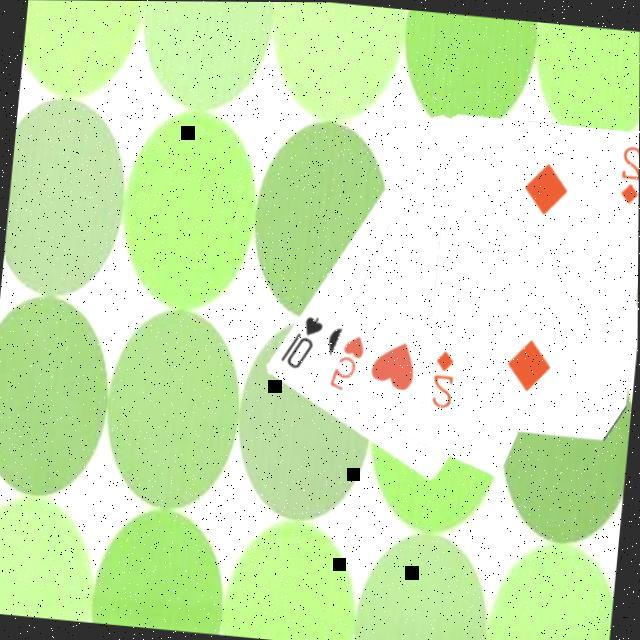10S: (276, 311, 327, 375)
2D: (428, 348, 459, 414), (615, 143, 639, 209)
5H: (325, 331, 368, 396)
